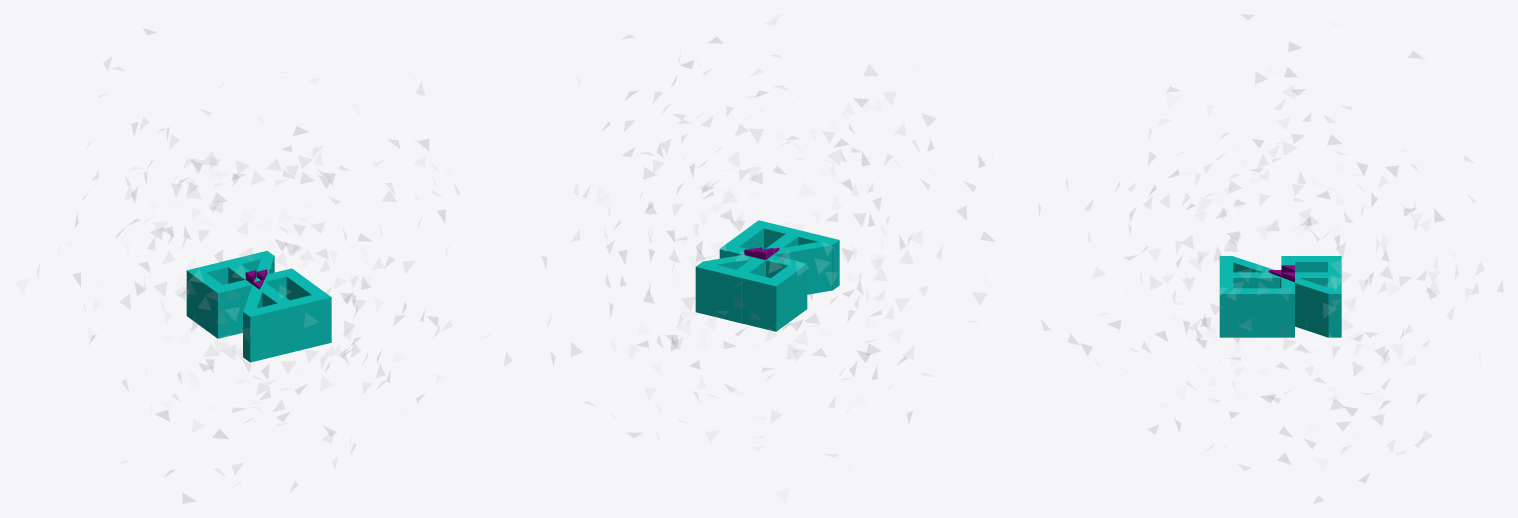
The picture shows the model from 3 angles, left to right: view 1: azimuth 30°, elevation 25°; view 2: azimuth 150°, elevation 25°; view 3: azimuth 270°, elevation 25°; orthographic projection. The views are drawn at different scales.
Visible parts, largest first — view 1: Sphere, Logo; view 2: Sphere, Logo; view 3: Sphere, Logo.
Boxes of the visible parts, box(x1,y1,x2,y2) form: Sphere: box(15, 28, 511, 502); Logo: box(186, 250, 331, 362); Sphere: box(542, 14, 993, 502); Logo: box(695, 220, 839, 331); Sphere: box(1039, 14, 1502, 502); Logo: box(1219, 256, 1341, 337).
Size of the model in its own units: 1761 by 1920 by 1985.
